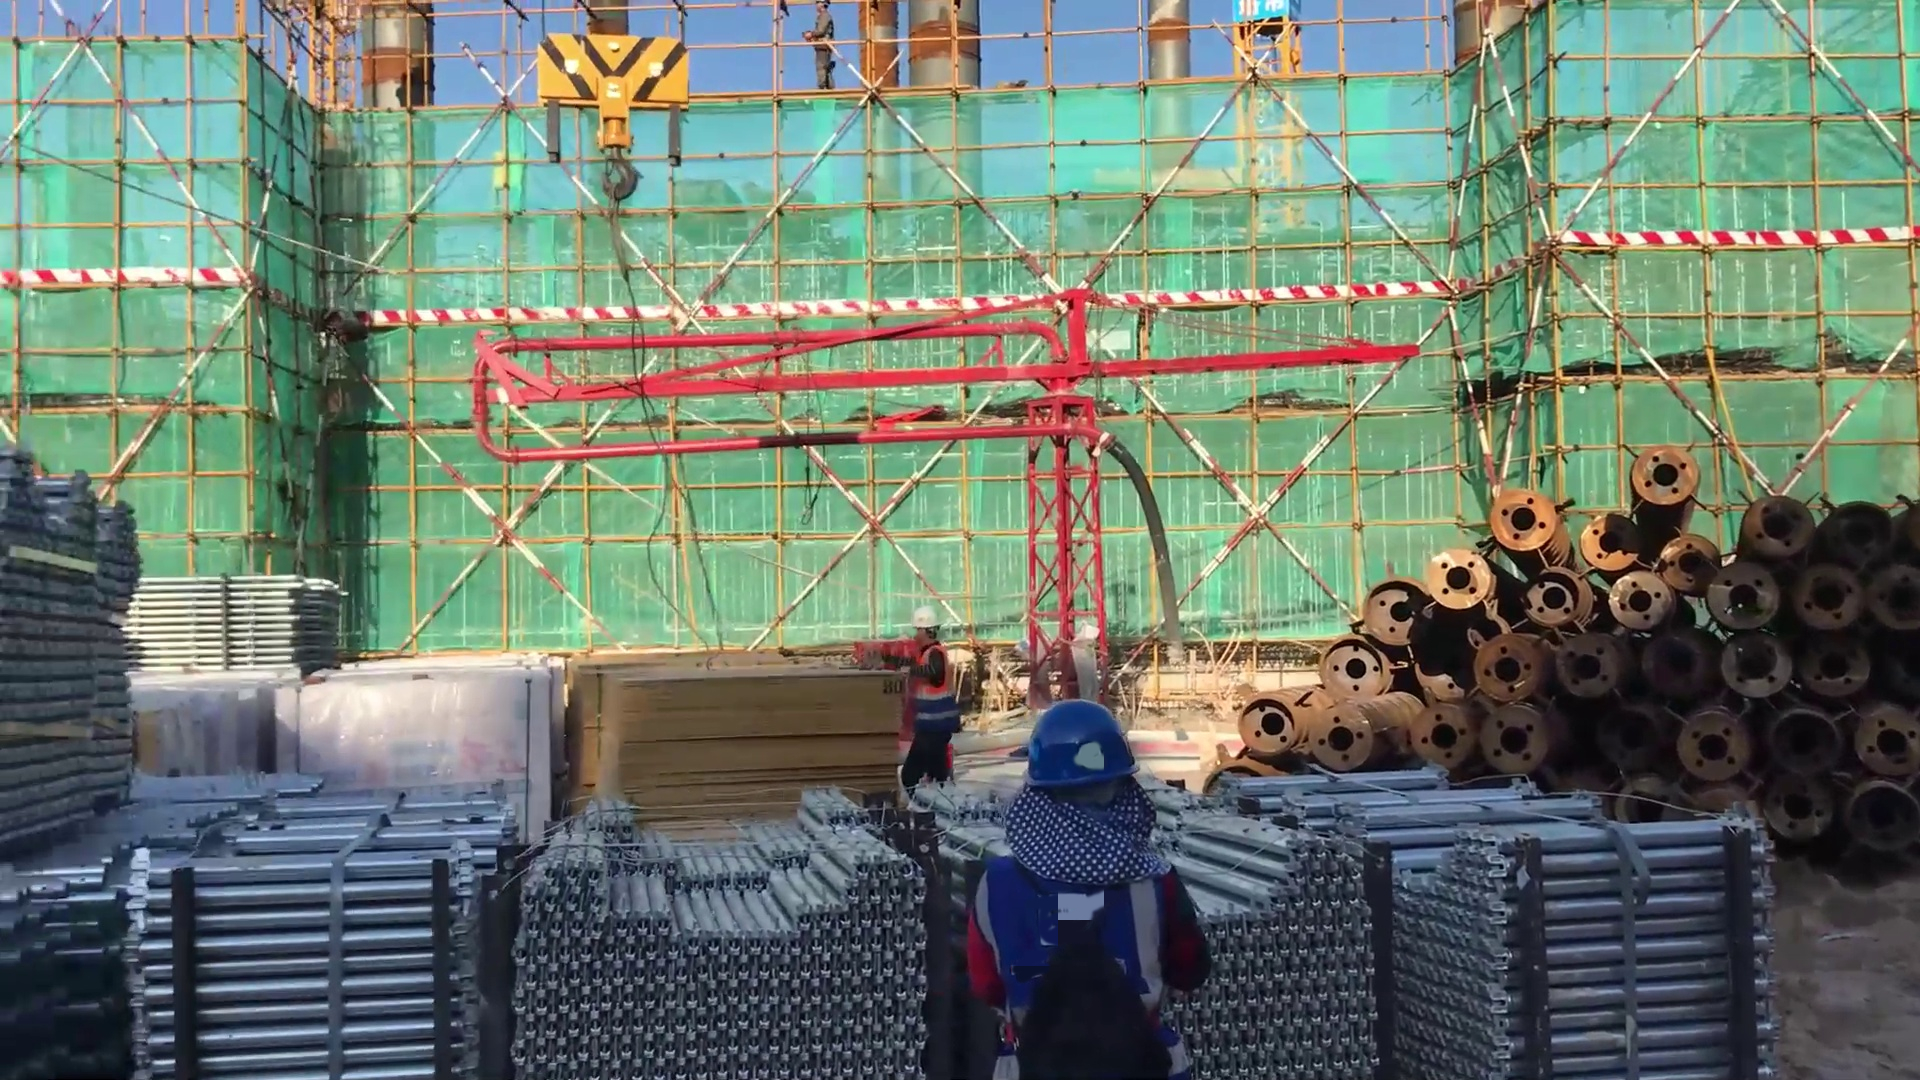board: (562, 654, 895, 815)
helmet: (1018, 688, 1141, 801), (906, 601, 958, 640)
hook: (502, 28, 700, 237)
person: (955, 701, 1223, 1071), (893, 602, 964, 795), (800, 1, 848, 96)
scaffold: (1167, 735, 1779, 1080), (1, 746, 531, 1080), (501, 782, 933, 1080), (1, 474, 148, 836), (127, 562, 344, 664)
vest: (973, 846, 1201, 1073), (911, 642, 956, 731)
